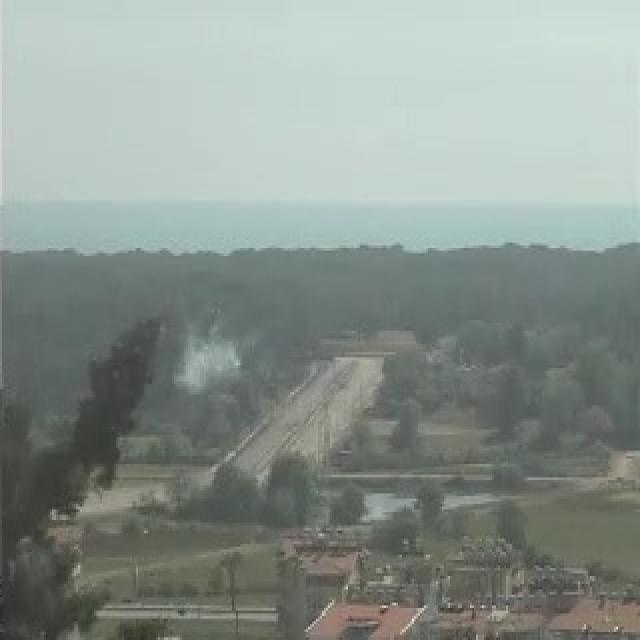smoke: (172, 334, 242, 391)
